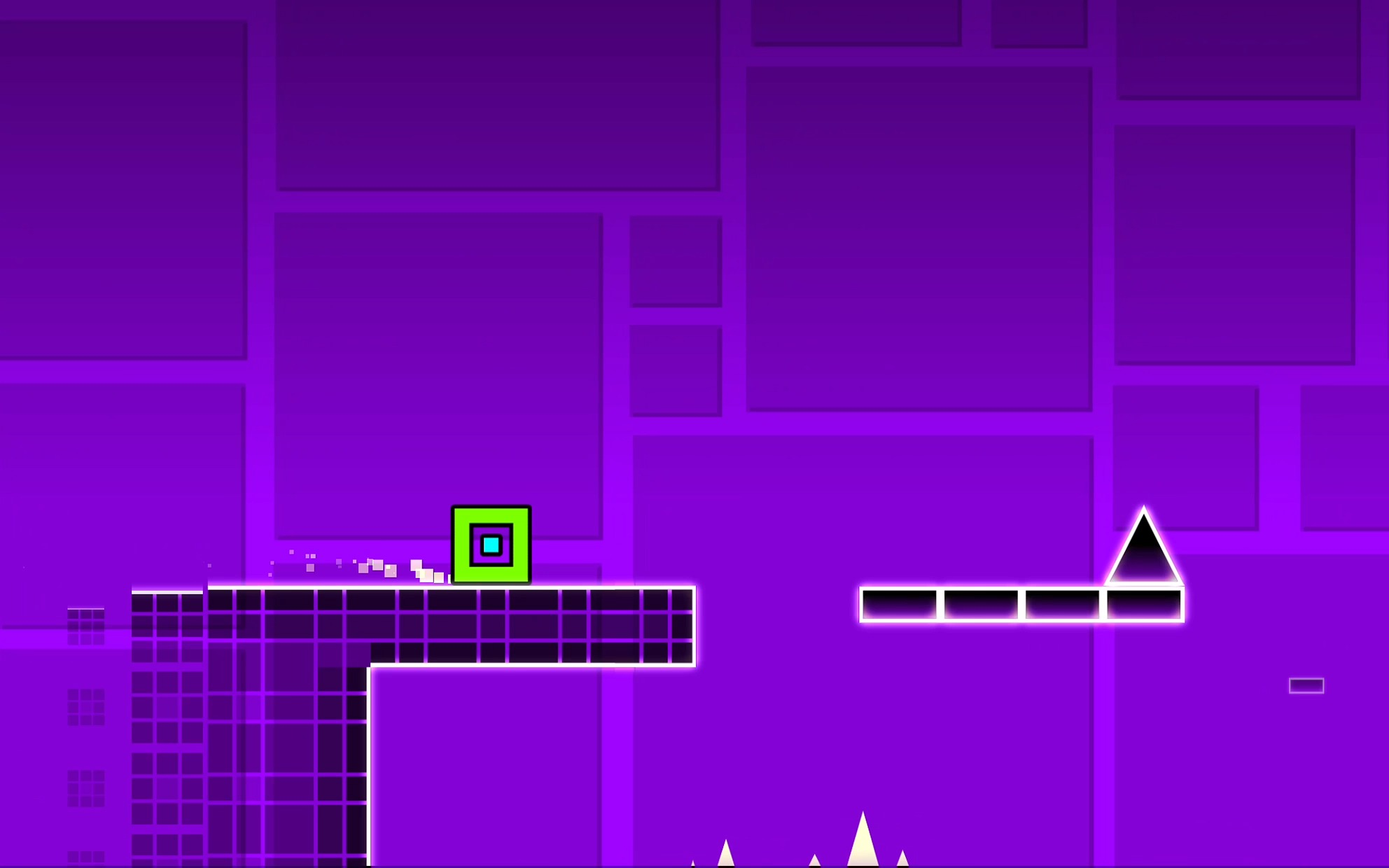Block2: (125, 584, 370, 868), (362, 589, 690, 663)
Block3: (1022, 583, 1109, 624), (1086, 586, 1187, 620), (944, 583, 1019, 626), (858, 587, 940, 621)
Player: (449, 505, 530, 583)
Spike: (1105, 507, 1182, 592)
